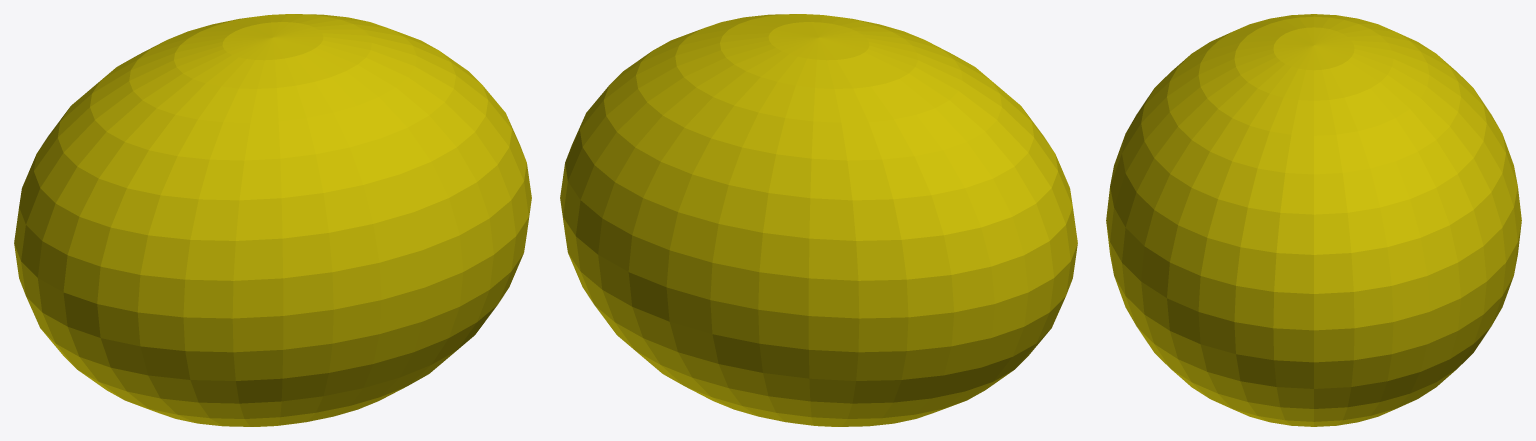
The model's file is sol_12.obj.
3 views of the same model, side by side, from view 1: azimuth 30°, elevation 25°; view 2: azimuth 150°, elevation 25°; view 3: azimuth 270°, elevation 25° (orthographic). The views are drawn at different scales.
Parts seen in each view (by area): view 1: Sphere; view 2: Sphere; view 3: Sphere.
Part boxes in pixels (x1,y1,x2,y2): Sphere: (14, 14, 531, 426); Sphere: (560, 14, 1077, 426); Sphere: (1106, 14, 1521, 426).
Bounding box in the file's own units: 0.00303 × 0.00225 × 0.00242.
